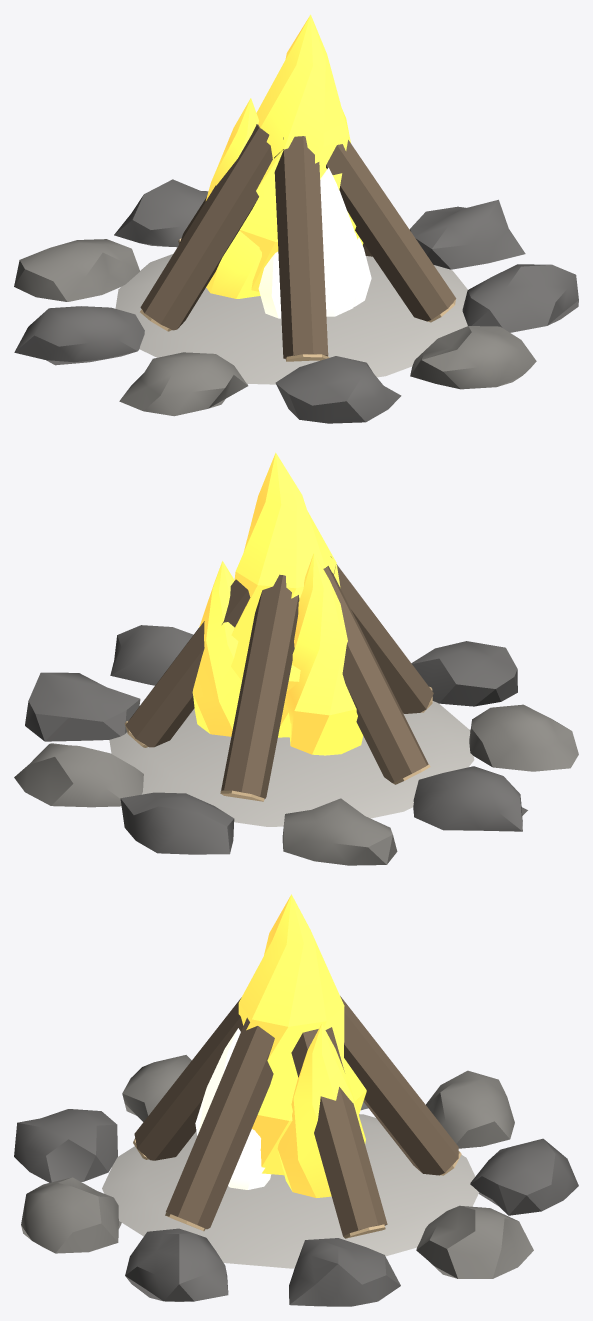
The model's file is furn_campfire.glb.
3 renders of one model, top to bottom at view 1: azimuth 30°, elevation 25°; view 2: azimuth 150°, elevation 25°; view 3: azimuth 270°, elevation 25°, orthographic. The views are drawn at different scales.
Visible parts, largest first — view 1: furn_campfire_body; view 2: furn_campfire_body; view 3: furn_campfire_body.
Boxes of the visible parts, x1,y1,x2,y2 form: furn_campfire_body: (14,14,578,423); furn_campfire_body: (14,452,578,865); furn_campfire_body: (14,894,578,1306).
Size of the model in its own units: 0.7721 by 0.4403 by 0.745.
